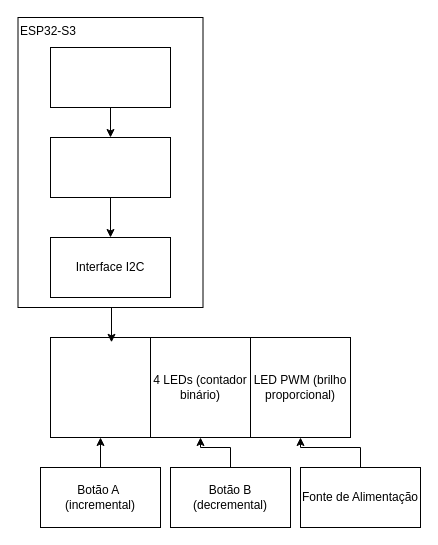
Image size: 438x545. Some labels were removed from this diagram. Each missing label, with the centre of its shape:
"contador 4 bits" goes at point (110, 77).
"Controle PWM" goes at point (110, 167).
"Display LCD 16x2 via I2C" goes at point (100, 387).
